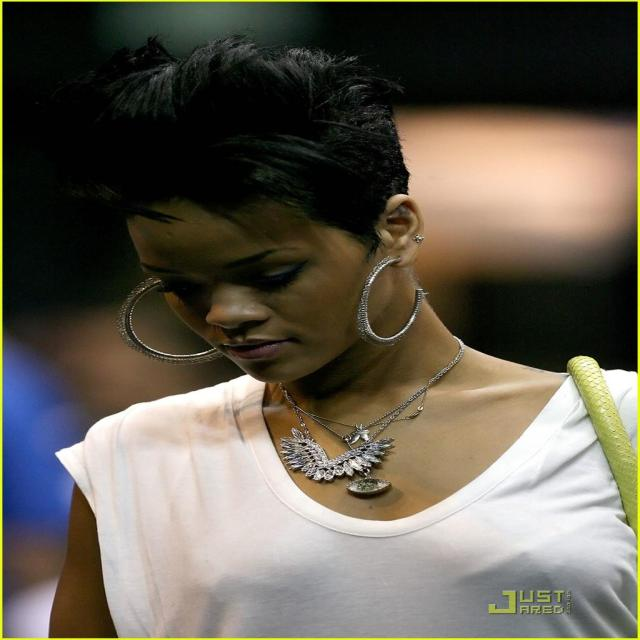Face: (101, 182, 404, 391)
